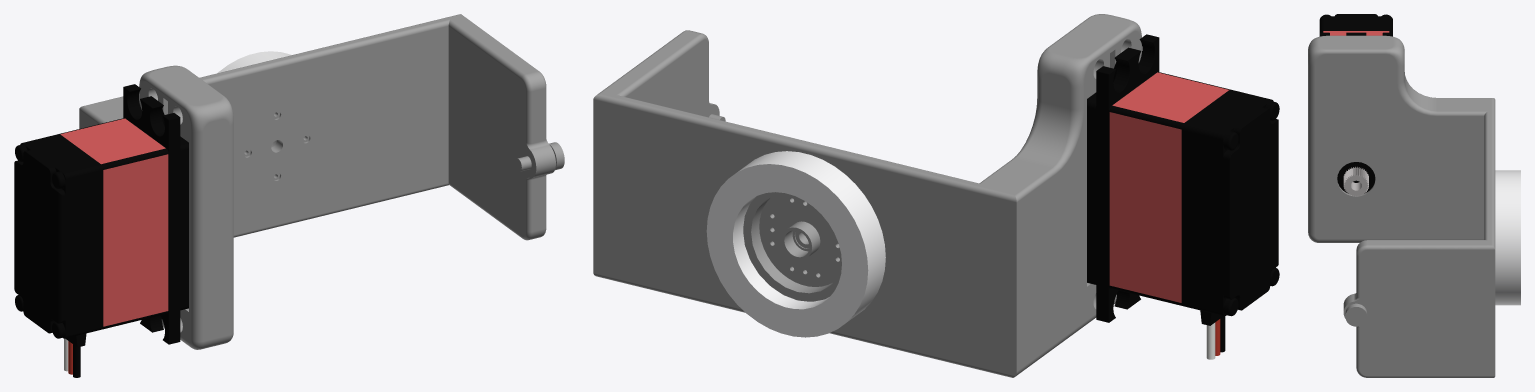
Rendered from base_tourelle_canon.obj.
The picture shows the model from 3 angles, left to right: view 1: azimuth 30°, elevation 25°; view 2: azimuth 150°, elevation 25°; view 3: azimuth 270°, elevation 25°; orthographic projection. The views are drawn at different scales.
Visible parts, largest first — view 1: Corps1:1, pas_impr, Corps1, Corps1:2; view 2: Corps1:1, pas_impr, Corps1, Corps3; view 3: Corps1:1, Corps1, pas_impr, pas_imp, Corps1:2.
Boxes of the visible parts, x1=… form: Corps1:1: x1=79, y1=14, x2=555, y2=349; pas_impr: x1=14, y1=84, x2=188, y2=377; Corps1: x1=217, y1=51, x2=291, y2=73; Corps1:2: x1=515, y1=142, x2=564, y2=171; Corps1:1: x1=593, y1=14, x2=1141, y2=377; pas_impr: x1=1087, y1=34, x2=1279, y2=359; Corps1: x1=706, y1=151, x2=885, y2=337; Corps3: x1=759, y1=193, x2=841, y2=286; Corps1:1: x1=1308, y1=35, x2=1495, y2=377; Corps1: x1=1495, y1=170, x2=1520, y2=305; pas_impr: x1=1319, y1=14, x2=1392, y2=193; pas_imp: x1=1343, y1=166, x2=1368, y2=196; Corps1:2: x1=1345, y1=303, x2=1367, y2=326.
Size of the model in its own units: 13.22 by 6.28 by 5.82.
